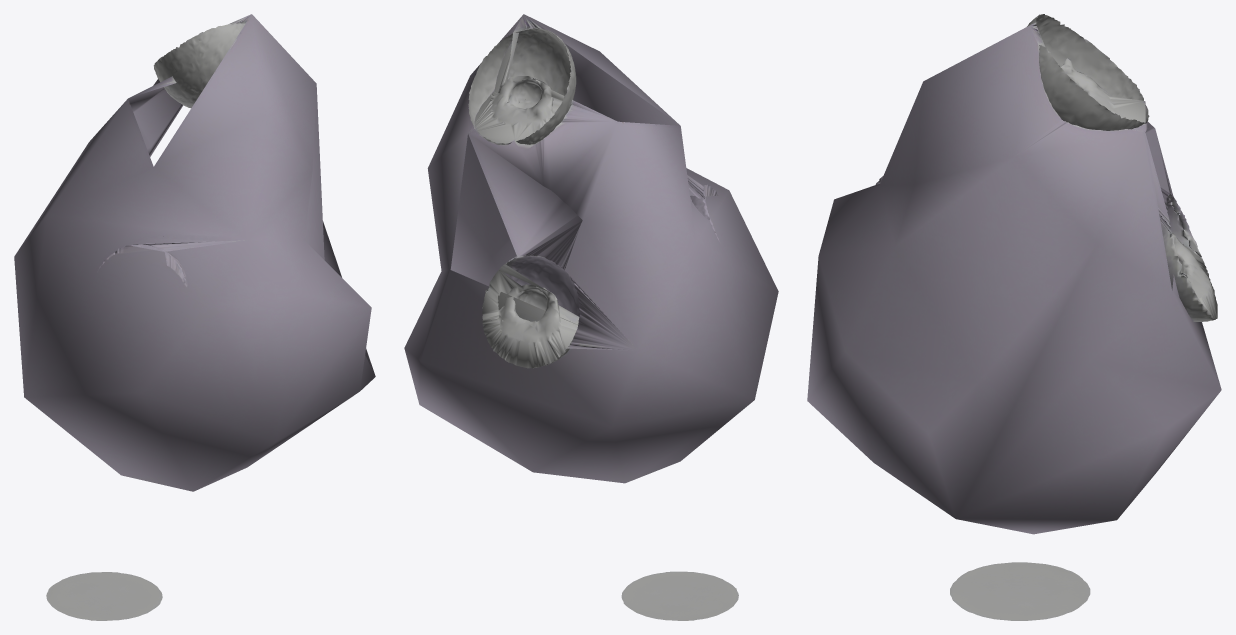
File: rock_edge.glb
3 views of the same model, side by side, from view 1: azimuth 30°, elevation 25°; view 2: azimuth 150°, elevation 25°; view 3: azimuth 270°, elevation 25° (orthographic). The views are drawn at different scales.
Visible parts, largest first — view 1: tripo_node_6f58d0a6-2cc6-4301-9a3c-57182a24452f; view 2: tripo_node_6f58d0a6-2cc6-4301-9a3c-57182a24452f; view 3: tripo_node_6f58d0a6-2cc6-4301-9a3c-57182a24452f.
Boxes of the visible parts, bbox=[...] form: tripo_node_6f58d0a6-2cc6-4301-9a3c-57182a24452f: bbox=[14, 14, 375, 620]; tripo_node_6f58d0a6-2cc6-4301-9a3c-57182a24452f: bbox=[404, 14, 778, 620]; tripo_node_6f58d0a6-2cc6-4301-9a3c-57182a24452f: bbox=[807, 14, 1221, 620].
Size of the model in its own units: 0.6191 by 0.998 by 0.5723.
1 material, 1 textured.
